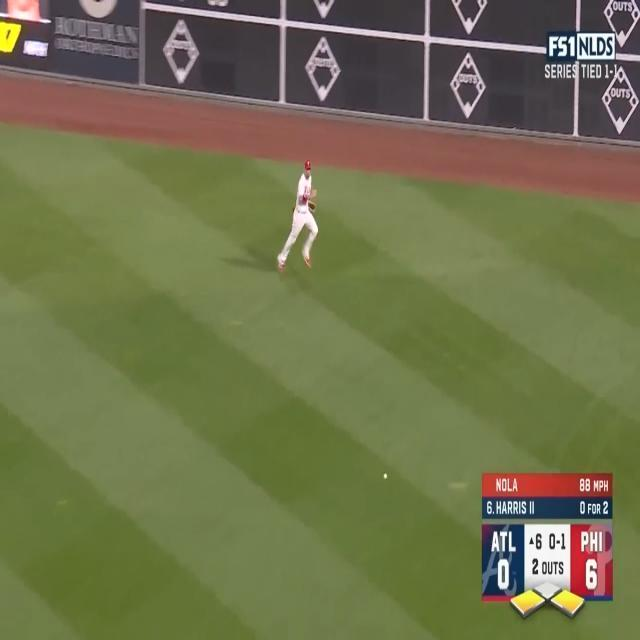ball: (384, 472, 388, 480)
